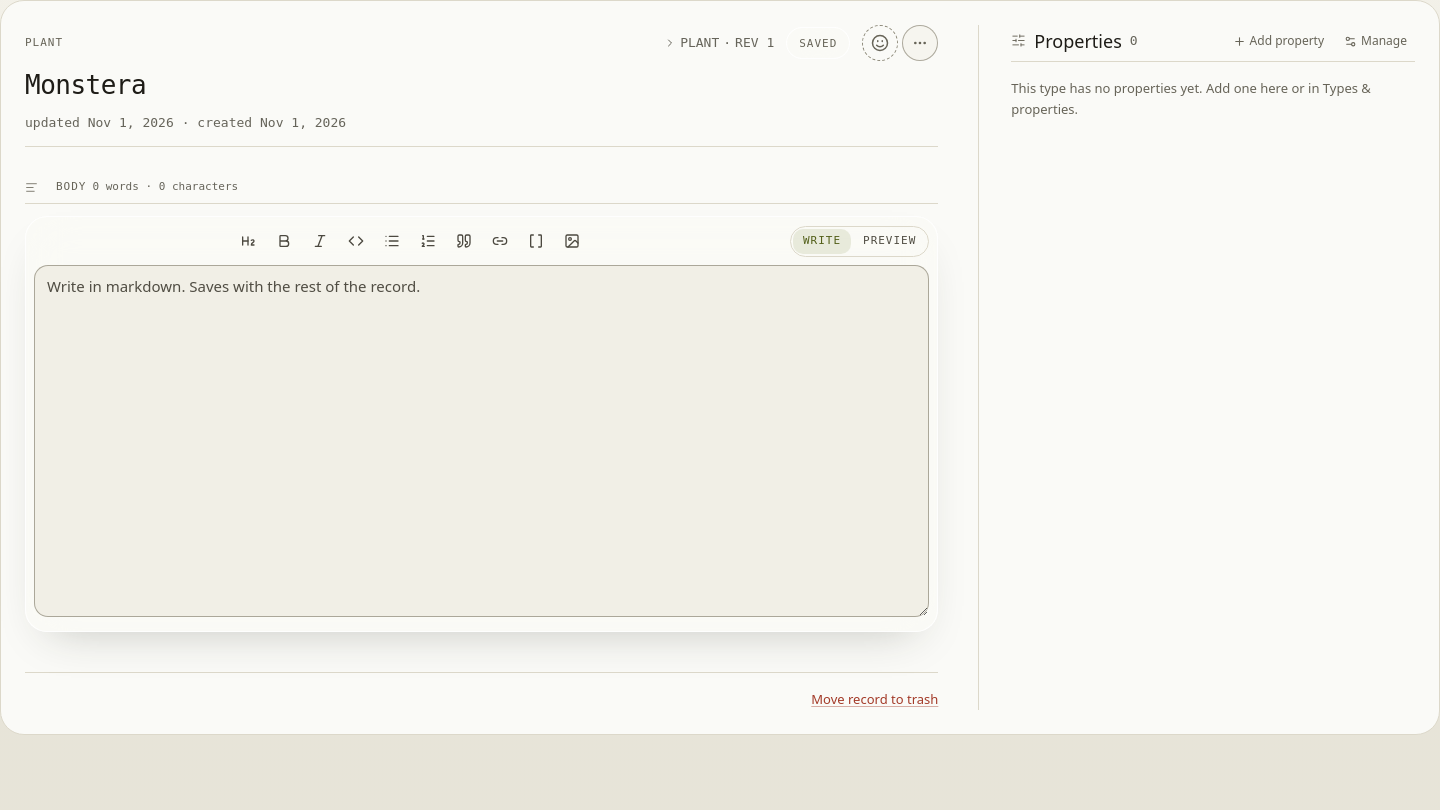
it: ObjectPanel rename repair › skips a source that changed after the preview and reports it
Replace the text in the field named "title" with "Monstera deliciosa": coordinates (482, 85) x1=25 y1=65 x2=938 y2=105
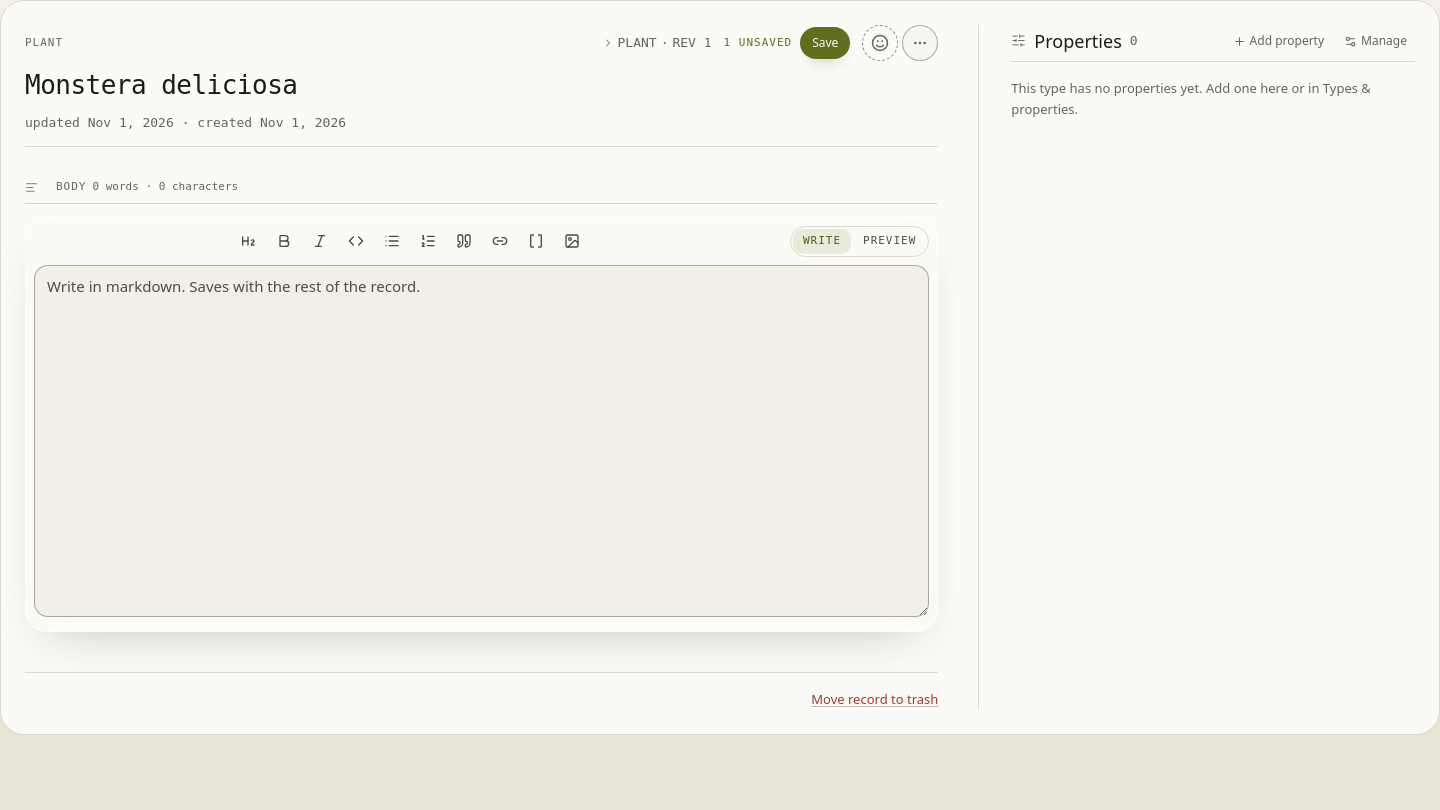
Click the button "Save": coordinates (825, 43) x1=800 y1=27 x2=850 y2=59
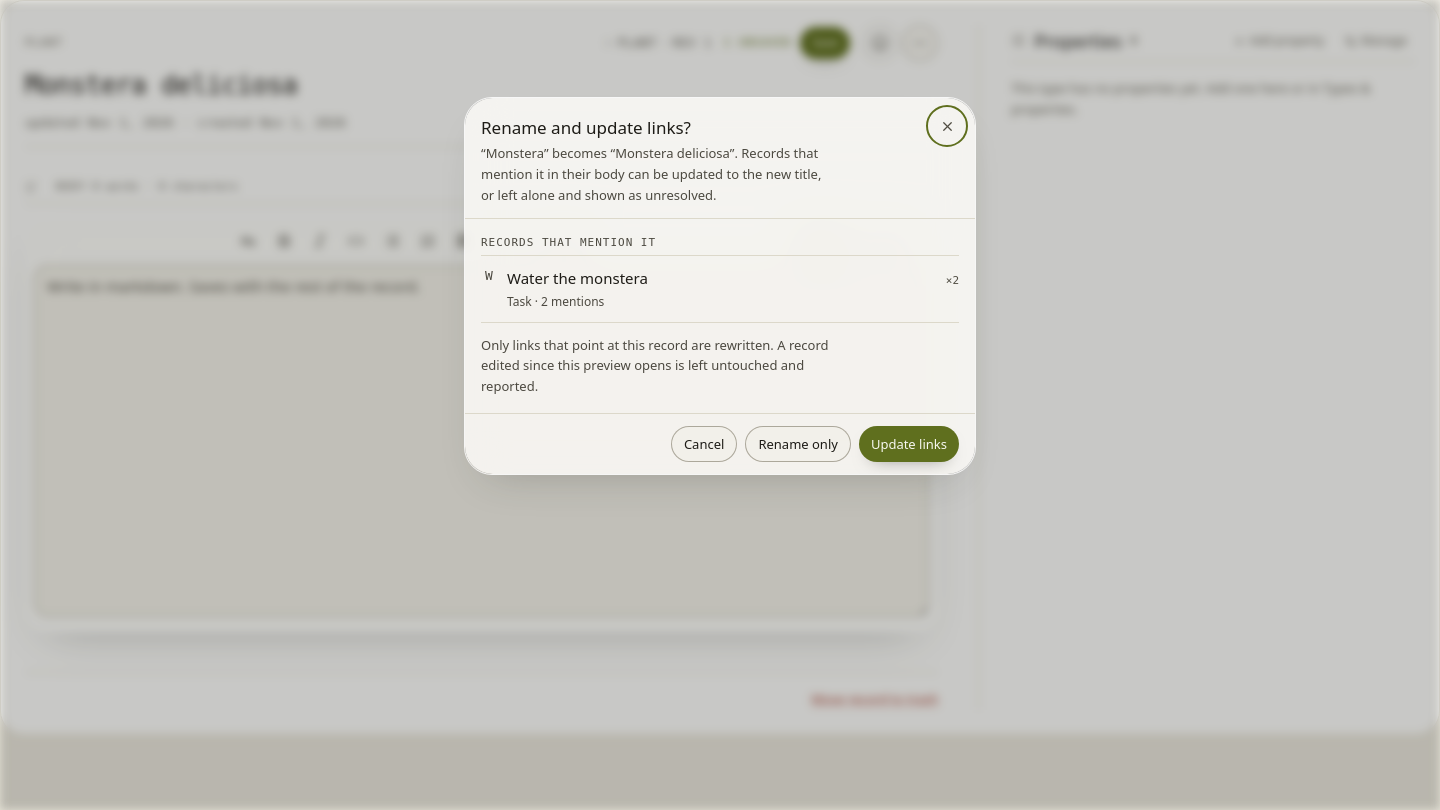
Check: the heading "Rename and update links?" is shown, box x1=481 y1=116 x2=691 y2=139
Check: the button "Update links" is enabled
Click the button "Update links": coordinates (909, 444) x1=859 y1=426 x2=959 y2=462
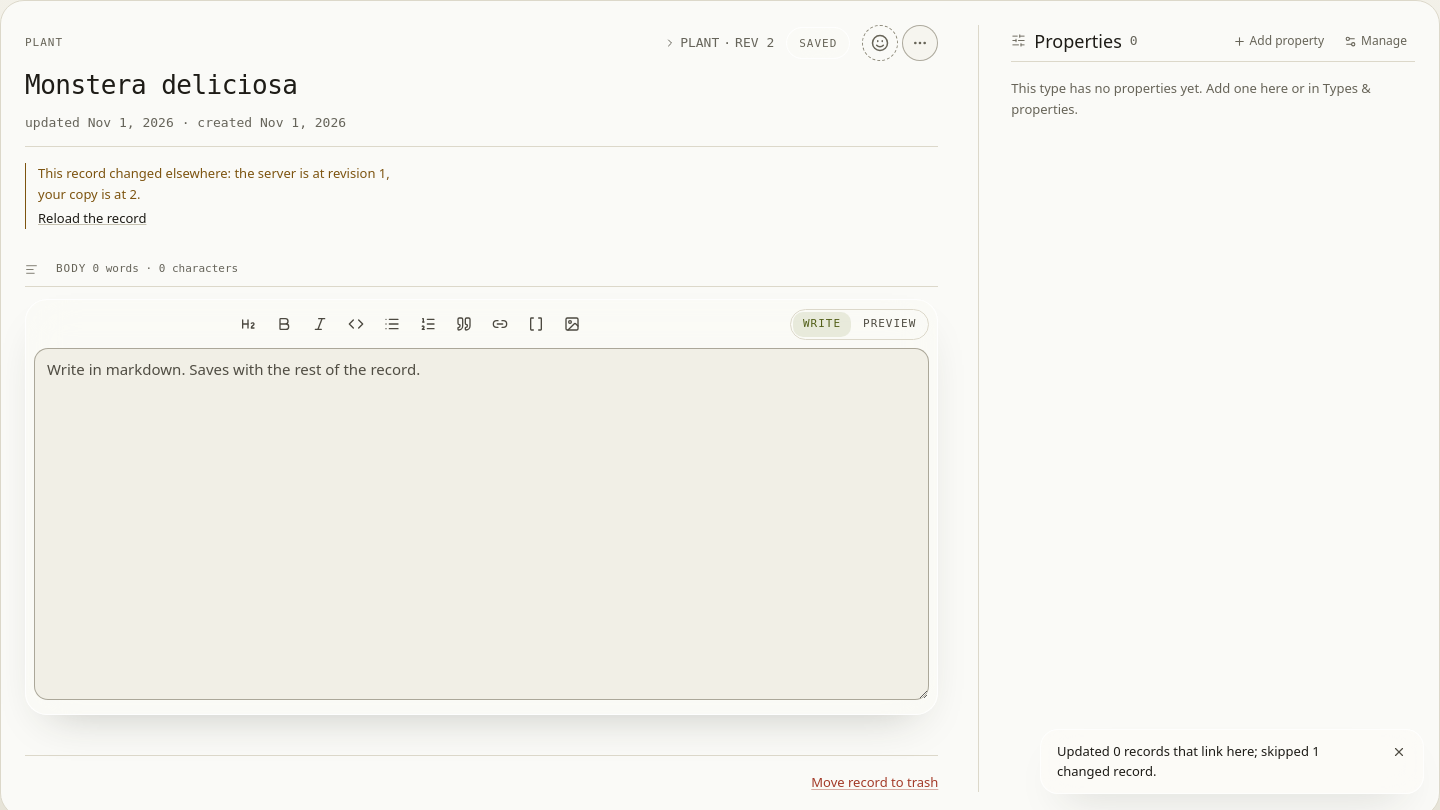
Check: the text "Updated 0 records that link here; skipped 1 changed record." is shown, box x1=1057 y1=742 x2=1320 y2=780
